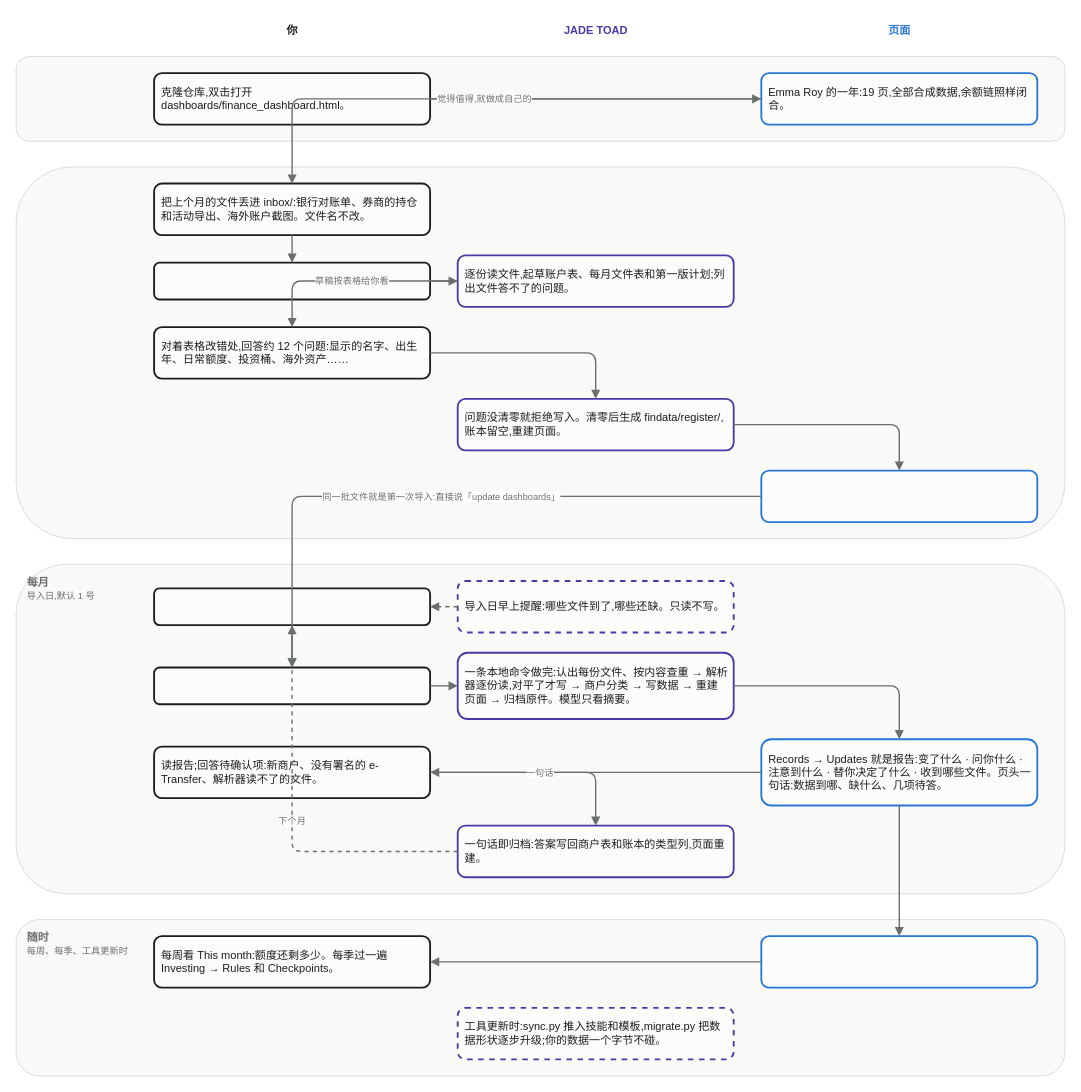
The diagram is 1081 pixels wide and 1092 high, and some of its shapes have lost their labels. The shapes that lost their labels are listed below. From the top down, each one's box as (x1, y1, x2, y2) in pixels, then its label:
(15, 56, 1065, 141): 试用 1 分钟,不装任何东西
(153, 261, 431, 300): 说「set this up」。
(15, 166, 1065, 539): 建立 约 20 分钟,只做一次
(760, 469, 1038, 523): 名字、账户、计划已就位;历史为空,每一页都说明「还没有导入」,而不是显得坏了。
(153, 587, 431, 626): 从各银行下载本月对账单和导出,丢进 inbox/。
(153, 666, 431, 705): 说「update dashboards」。
(760, 935, 1038, 988): 侧边栏圆点:琥珀 = 看一眼,红 = 规则被破。四个检查器过不去,页面根本建不出来。
